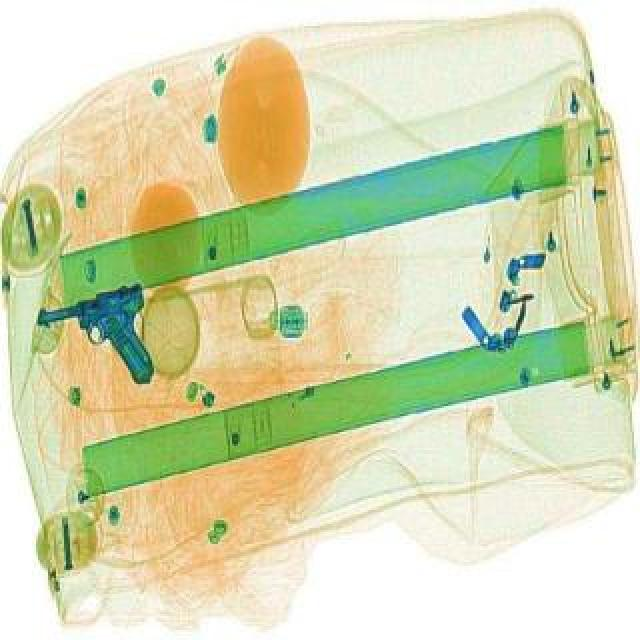gun: (34, 278, 166, 398)
